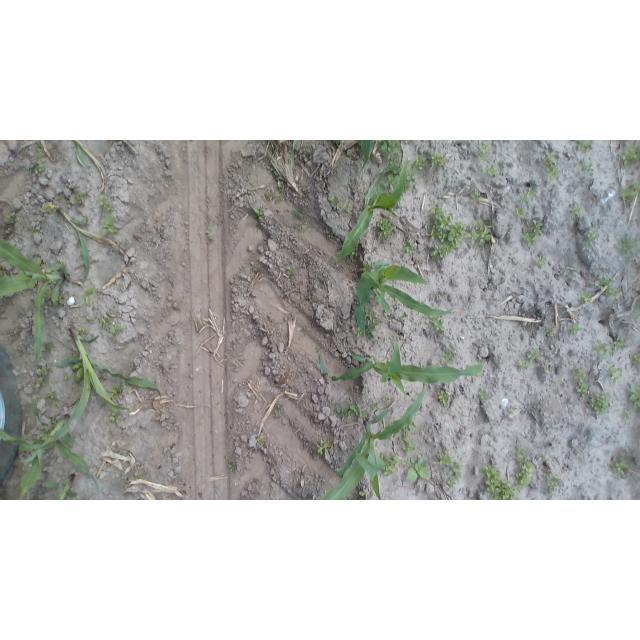Maize: (38, 321, 166, 439), (320, 383, 425, 500), (316, 334, 487, 399), (0, 401, 98, 498), (352, 259, 458, 346), (0, 236, 68, 366), (334, 160, 411, 262), (43, 202, 100, 282), (348, 141, 376, 182), (43, 472, 78, 501), (71, 140, 89, 168), (290, 140, 299, 172)
Weeds: (427, 201, 466, 260), (481, 462, 514, 500), (436, 453, 462, 490), (466, 217, 494, 249), (379, 140, 400, 181), (516, 446, 535, 489), (521, 219, 544, 250), (516, 185, 536, 219), (541, 148, 560, 183), (516, 347, 541, 373), (290, 206, 312, 235), (406, 457, 430, 483), (334, 403, 368, 421), (364, 308, 383, 340), (588, 392, 612, 417), (264, 180, 287, 205), (397, 426, 417, 454), (97, 315, 123, 336), (380, 452, 401, 478), (620, 141, 640, 168), (616, 233, 640, 255), (572, 364, 589, 395), (406, 158, 425, 185), (376, 216, 396, 240), (544, 470, 562, 494), (619, 181, 640, 201), (101, 214, 119, 237), (575, 158, 597, 176), (609, 457, 629, 476), (591, 339, 610, 359), (439, 347, 459, 366), (473, 140, 492, 160), (314, 437, 331, 459), (400, 239, 419, 258), (95, 193, 115, 211), (591, 271, 609, 291), (82, 286, 99, 307), (254, 207, 267, 234), (43, 389, 61, 408), (429, 315, 448, 333), (585, 226, 601, 247), (429, 151, 447, 169), (69, 190, 90, 205), (608, 363, 622, 385), (602, 286, 620, 303), (628, 383, 640, 408), (437, 387, 451, 408), (611, 336, 625, 356), (72, 362, 84, 384), (576, 140, 594, 154), (106, 383, 122, 398), (567, 321, 583, 336), (569, 202, 584, 218), (534, 253, 549, 269), (1, 213, 15, 228), (52, 293, 66, 308), (225, 461, 239, 476), (482, 164, 499, 176), (109, 410, 123, 424), (630, 352, 640, 371), (38, 365, 51, 379), (271, 405, 284, 419), (477, 389, 491, 402), (579, 290, 593, 303), (623, 408, 636, 422), (31, 160, 46, 172), (135, 470, 150, 482), (35, 141, 46, 157), (542, 361, 555, 374), (359, 262, 372, 275), (341, 199, 353, 212), (469, 187, 481, 200), (28, 225, 42, 235), (331, 194, 340, 209), (284, 266, 296, 277), (36, 257, 46, 270), (354, 326, 363, 339), (43, 341, 55, 350), (545, 327, 555, 337), (325, 230, 335, 240), (40, 431, 49, 442), (255, 435, 264, 446), (371, 403, 380, 414), (76, 328, 89, 335), (408, 420, 417, 430), (539, 453, 548, 463), (68, 491, 79, 499), (347, 252, 356, 261), (54, 193, 63, 201), (114, 282, 122, 291), (34, 379, 43, 387), (382, 394, 390, 403), (632, 309, 640, 318), (356, 492, 366, 499), (107, 429, 113, 440), (63, 371, 69, 381), (245, 174, 252, 182), (30, 494, 39, 500), (401, 313, 408, 320), (313, 347, 319, 354), (636, 298, 640, 307), (51, 417, 56, 423)
